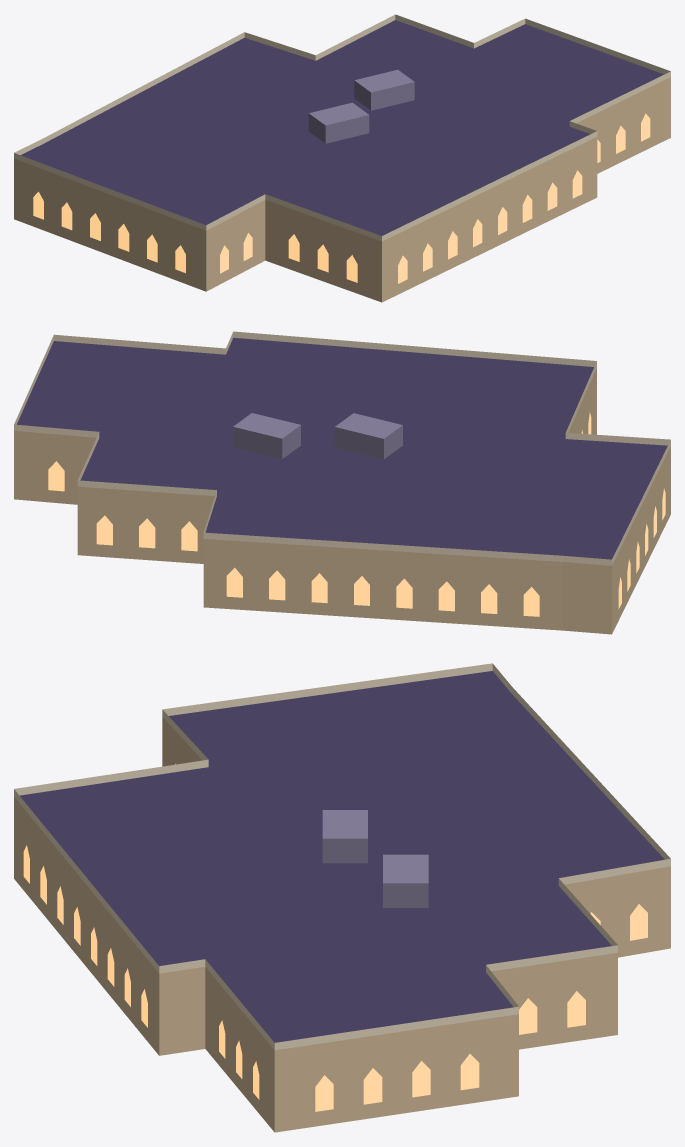
Rendered from b-011-huron-dining-hall.glb.
3 renders of one model, top to bottom at view 1: azimuth 30°, elevation 25°; view 2: azimuth 150°, elevation 25°; view 3: azimuth 270°, elevation 25°, orthographic. The views are drawn at different scales.
Parts seen in each view (by area): view 1: campus/b-011-huron-dining-hall-0; view 2: campus/b-011-huron-dining-hall-0; view 3: campus/b-011-huron-dining-hall-0.
Boxes of the visible parts, x1,y1,x2,y2 form: campus/b-011-huron-dining-hall-0: (14,14,670,302); campus/b-011-huron-dining-hall-0: (14,331,670,634); campus/b-011-huron-dining-hall-0: (14,663,670,1132).
Bounding box in the file's own units: 59.39 × 7.8 × 43.45.
